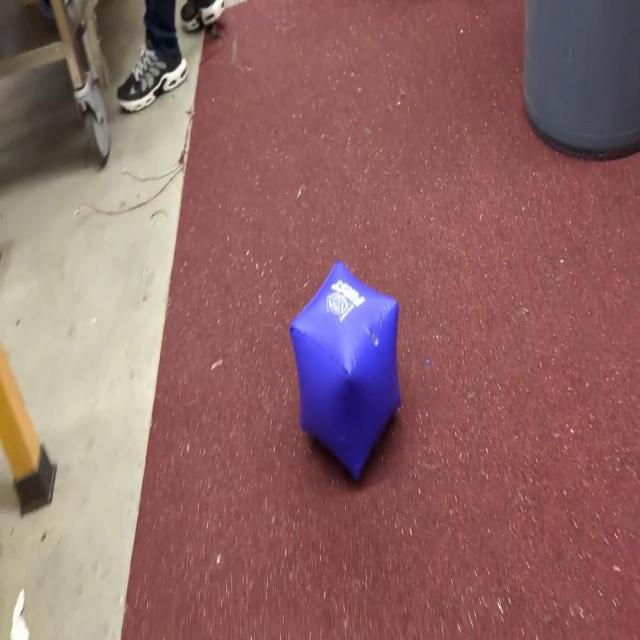frc_cube: (286, 259, 404, 481)
